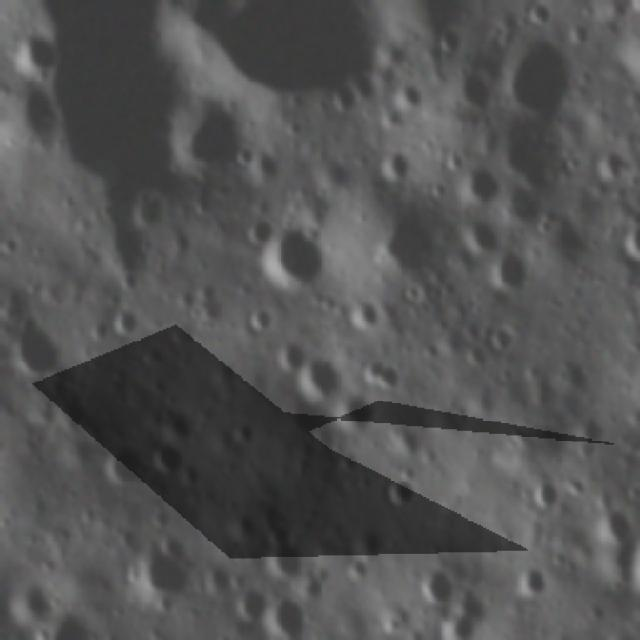crater: (494, 36, 574, 116), (253, 227, 327, 295), (362, 210, 432, 268), (5, 312, 64, 379), (136, 538, 192, 600), (9, 28, 60, 78), (100, 442, 148, 488), (292, 355, 342, 399), (331, 390, 377, 436), (413, 562, 458, 608), (267, 592, 310, 637), (492, 253, 530, 295), (458, 218, 500, 256), (263, 540, 305, 578), (380, 472, 418, 512), (461, 165, 501, 202), (227, 586, 267, 622), (456, 72, 492, 110), (272, 334, 308, 372), (241, 214, 277, 251), (150, 438, 184, 476), (514, 561, 548, 597), (389, 80, 425, 114), (528, 473, 561, 510), (108, 303, 141, 337), (381, 152, 413, 186), (486, 320, 520, 352), (576, 413, 607, 442), (243, 303, 274, 332), (435, 24, 460, 56), (230, 144, 256, 167), (283, 117, 306, 138), (419, 339, 441, 359)
